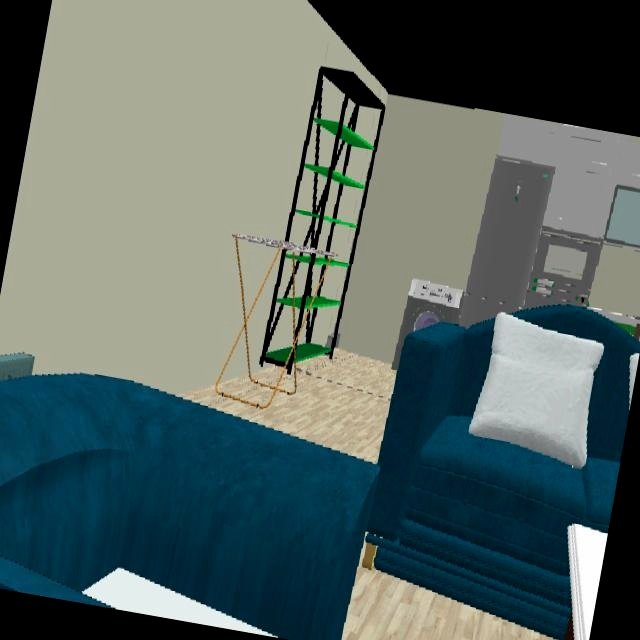cabinet: (498, 117, 640, 237)
fridge: (459, 155, 553, 326)
microwave: (524, 231, 600, 308)
pillow: (469, 314, 602, 467)
shelf: (259, 66, 384, 371)
sofa: (0, 374, 377, 640), (367, 306, 640, 639)
